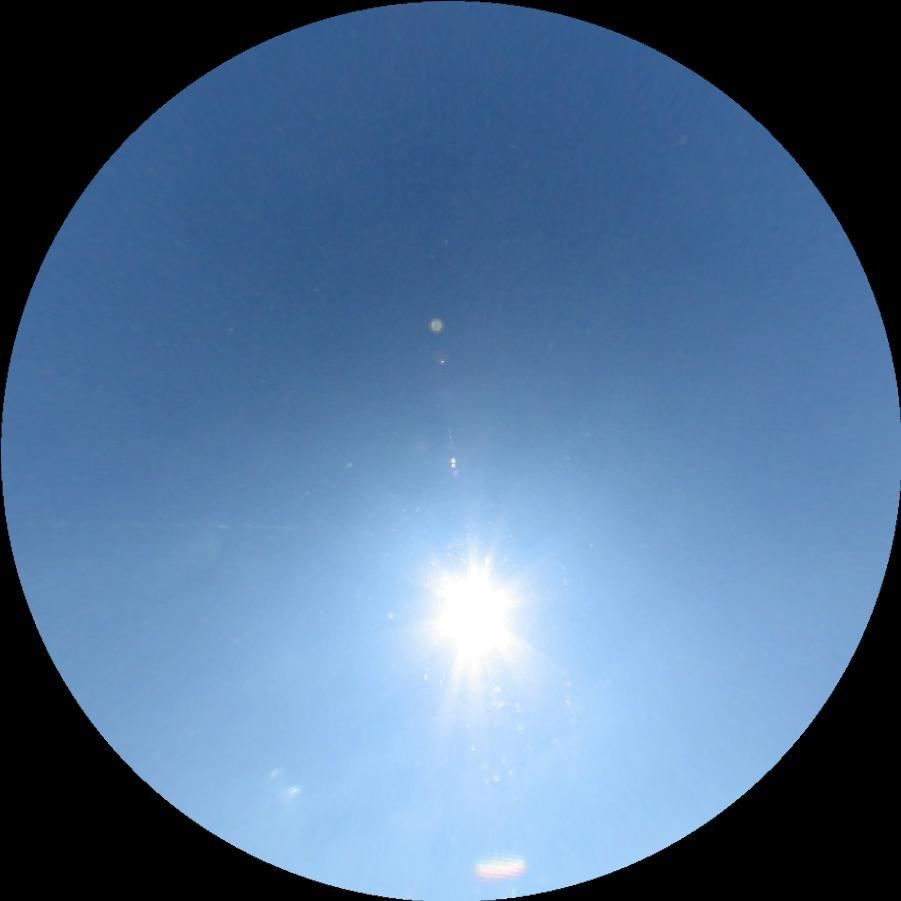sun: (416, 553, 527, 669)
